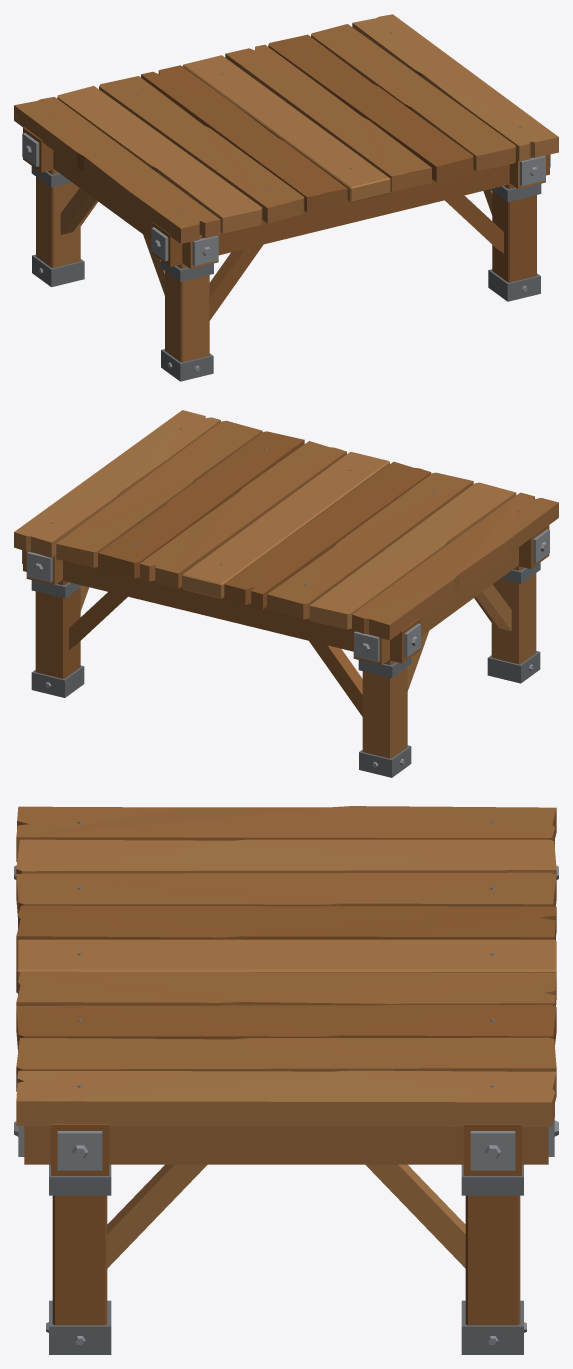
File: Timber Walkway Module.glb
3 views of the same model, one above another, from view 1: azimuth 30°, elevation 25°; view 2: azimuth 150°, elevation 25°; view 3: azimuth 270°, elevation 25° (orthographic). The views are drawn at different scales.
Visible parts, largest first — view 1: Timber Walkway Module.Static; view 2: Timber Walkway Module.Static; view 3: Timber Walkway Module.Static.
Part boxes in pixels (left/top/right/bottom): Timber Walkway Module.Static: left=14, top=14, right=558, bottom=381; Timber Walkway Module.Static: left=14, top=410, right=558, bottom=777; Timber Walkway Module.Static: left=14, top=806, right=558, bottom=1354.
Size of the model in its own units: 1.85 by 0.739 by 1.4.
